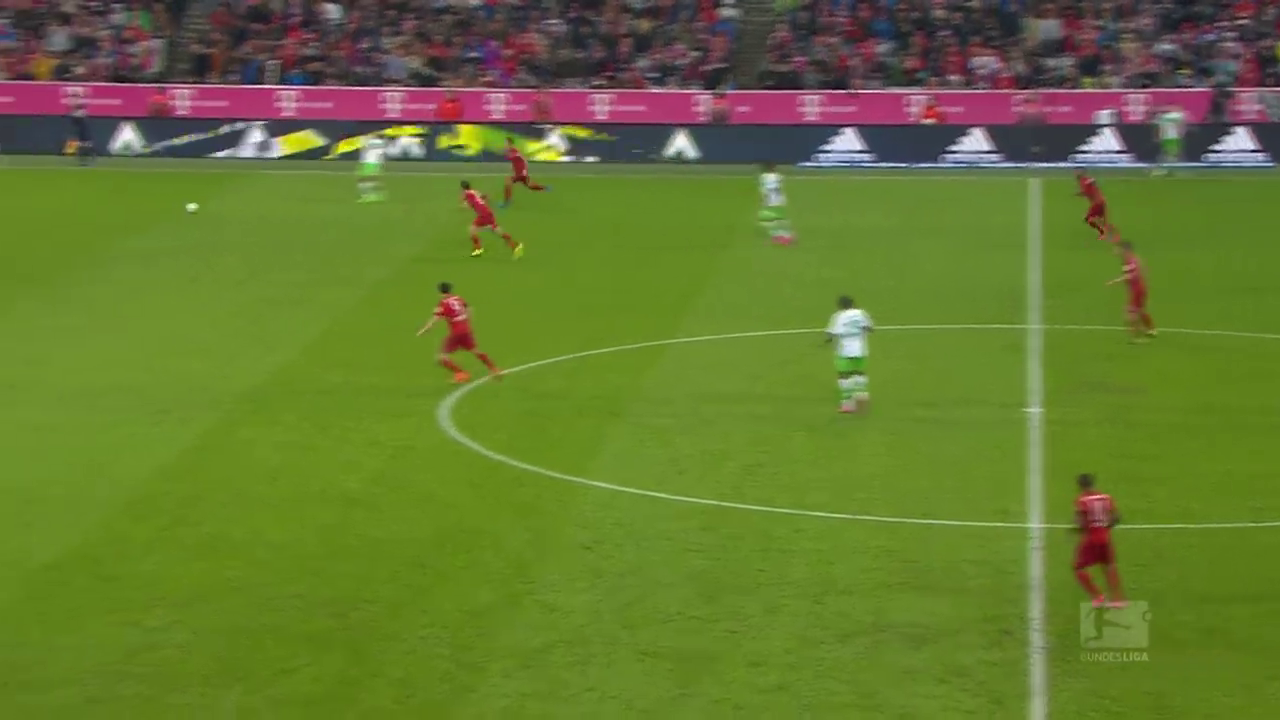ball: (184, 200, 200, 213)
player: (1061, 468, 1137, 611), (408, 280, 509, 380), (818, 292, 884, 413), (1101, 237, 1160, 346), (452, 180, 526, 262), (497, 132, 557, 213), (1070, 162, 1123, 243), (756, 156, 795, 246), (350, 131, 388, 208)
